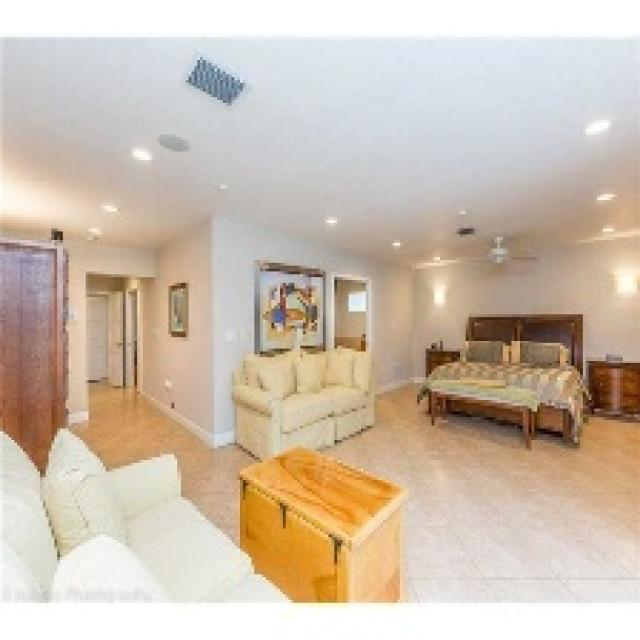Bed: (417, 312, 586, 448)
